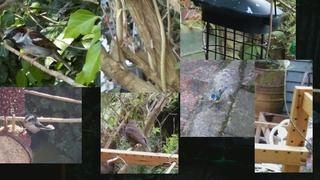blue tit: (208, 86, 228, 112)
long tailed tit: (20, 114, 55, 138)
sparrow: (2, 27, 74, 72)
starling: (125, 119, 152, 152)
